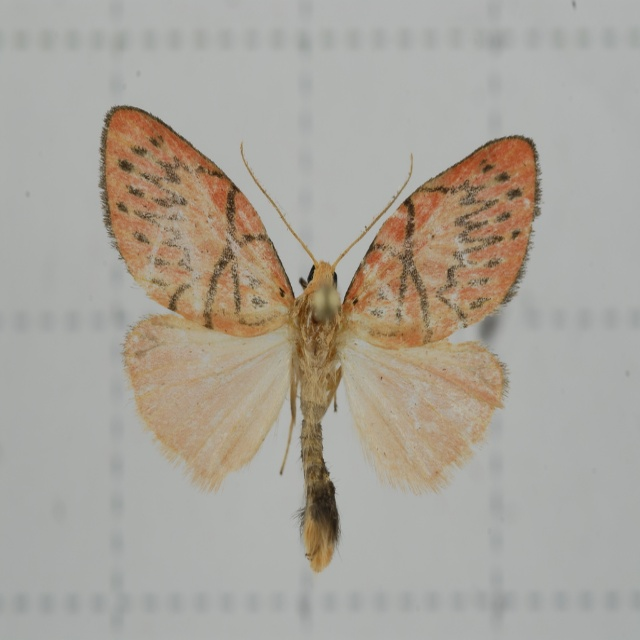Butterfly: (99, 105, 542, 571)
